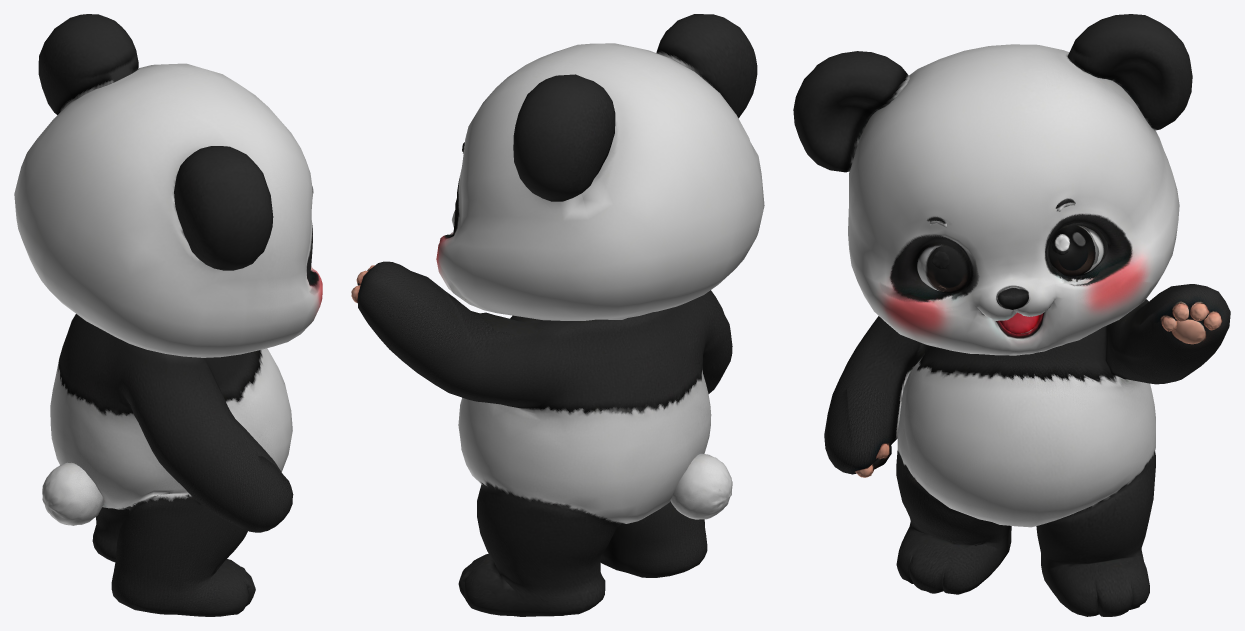
File: taiga.glb
The picture shows the model from 3 angles, left to right: view 1: azimuth 30°, elevation 25°; view 2: azimuth 150°, elevation 25°; view 3: azimuth 270°, elevation 25°; orthographic projection. The views are drawn at different scales.
Parts seen in each view (by area): view 1: tripo_node_a2b47d6c-e2e2-4ed3-85da-4feceff8ff34; view 2: tripo_node_a2b47d6c-e2e2-4ed3-85da-4feceff8ff34; view 3: tripo_node_a2b47d6c-e2e2-4ed3-85da-4feceff8ff34.
Part boxes in pixels (<box>): tripo_node_a2b47d6c-e2e2-4ed3-85da-4feceff8ff34: <box>14,14,322,616</box>; tripo_node_a2b47d6c-e2e2-4ed3-85da-4feceff8ff34: <box>351,14,764,616</box>; tripo_node_a2b47d6c-e2e2-4ed3-85da-4feceff8ff34: <box>793,14,1230,616</box>.
Size of the model in its own units: 0.5332 by 0.998 by 0.7207.
Materials: 1 (1 with a texture image).
